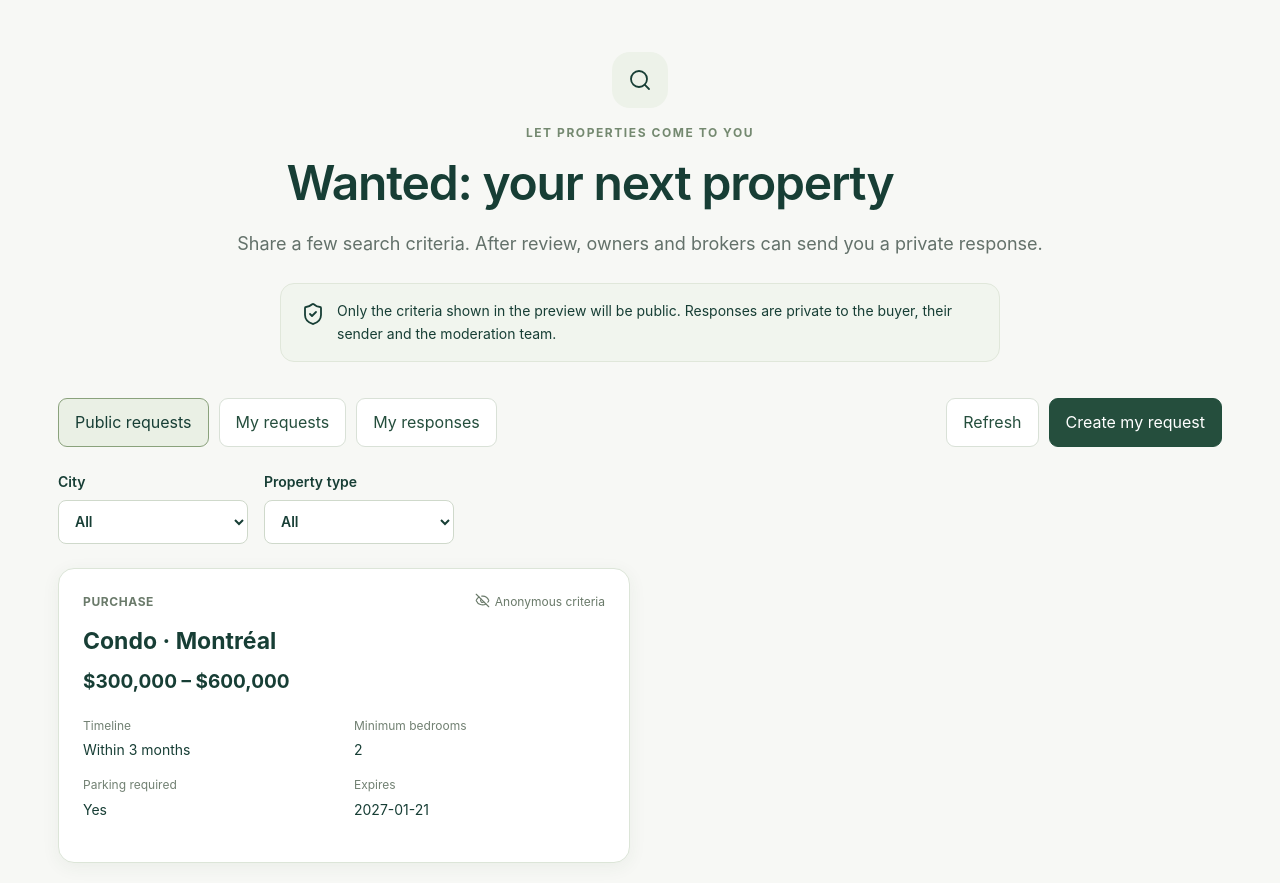
Scenario: requires confirmation to withdraw and keeps private responses behind the buyer view
The image size is (1280, 883).
Click the button "My requests": [282, 422] box [218,398,346,447]
(page scrolled)
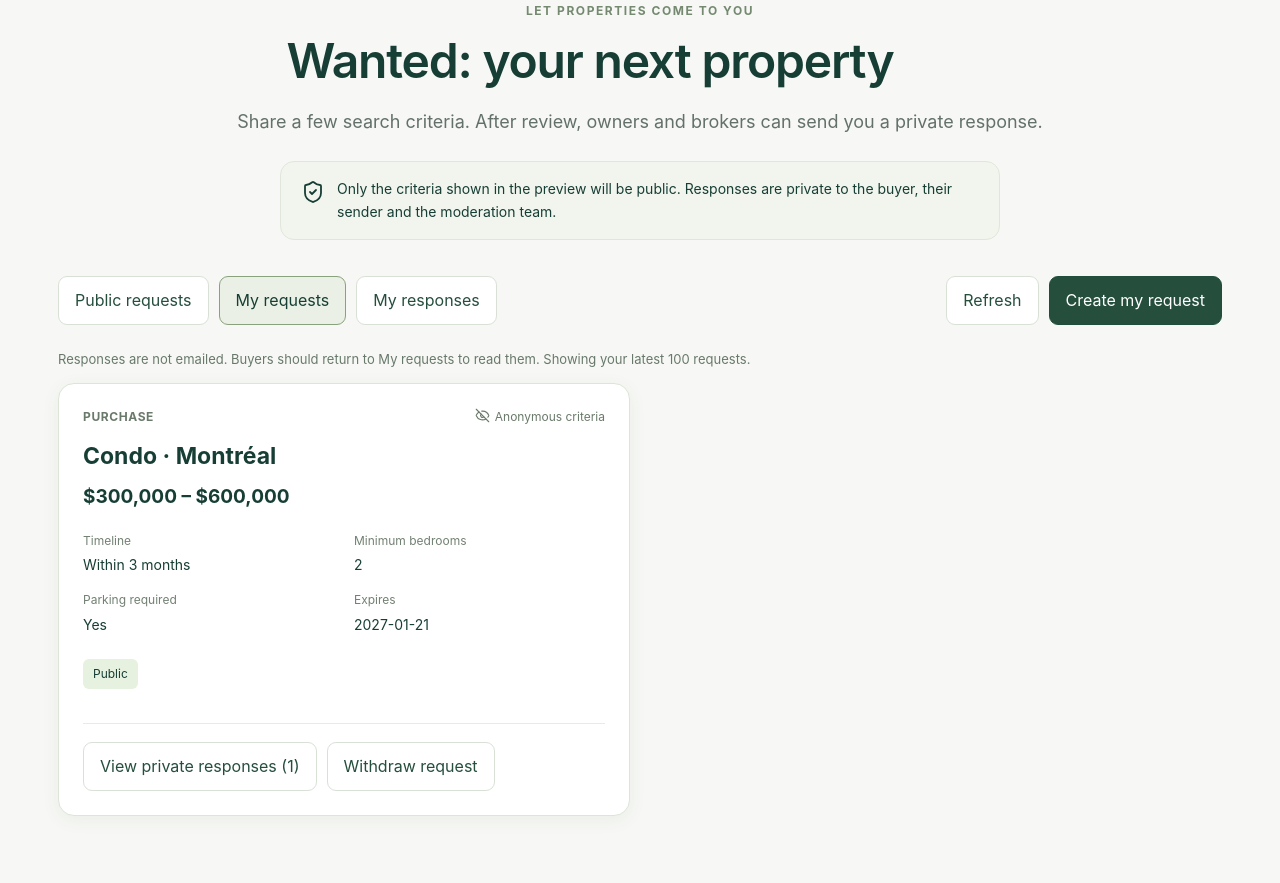
Expected: the text "Private seller message" is not shown
Click the button "View private responses (1)": [200, 767] box [83,742,316,791]
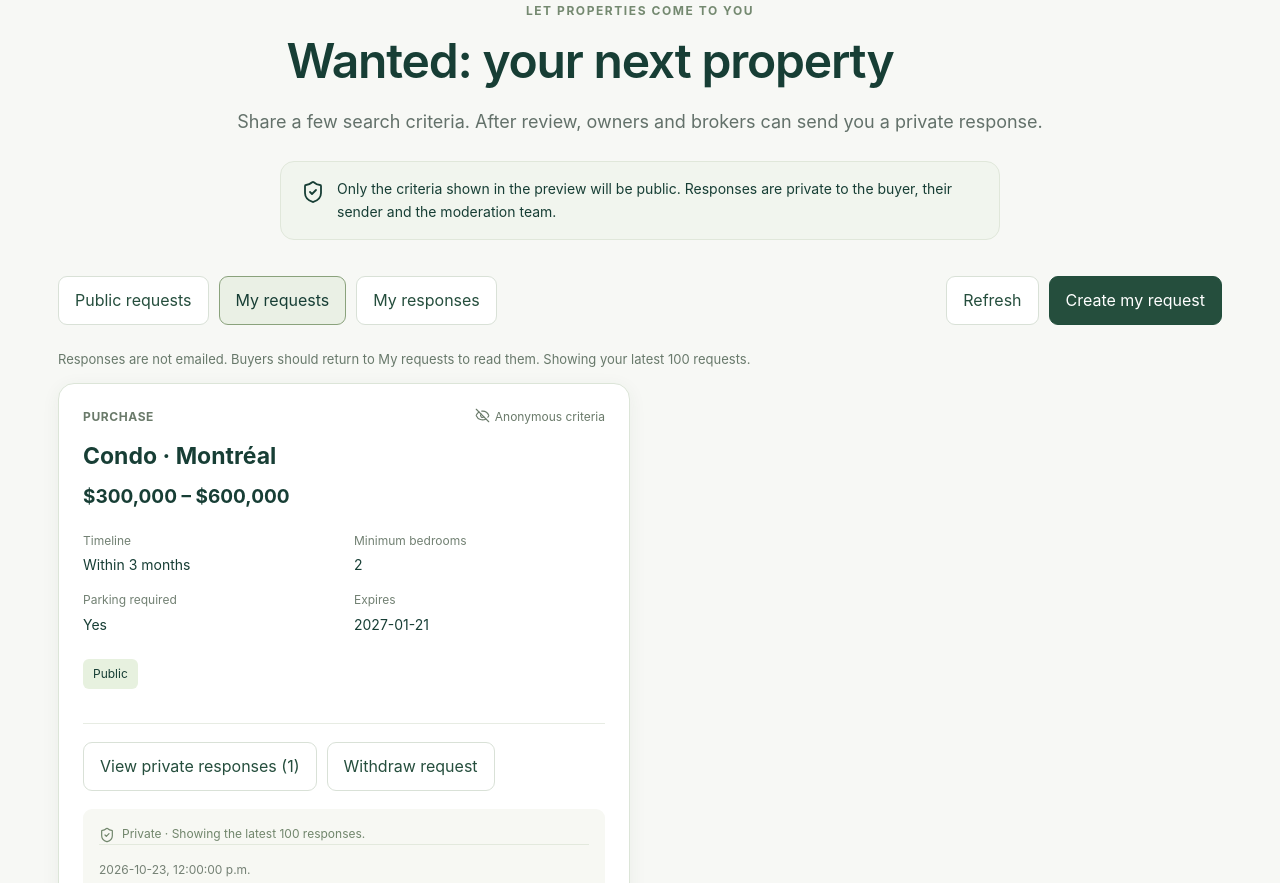
Click the button "Withdraw request": [411, 767] box [326,742,495,791]
(page scrolled)
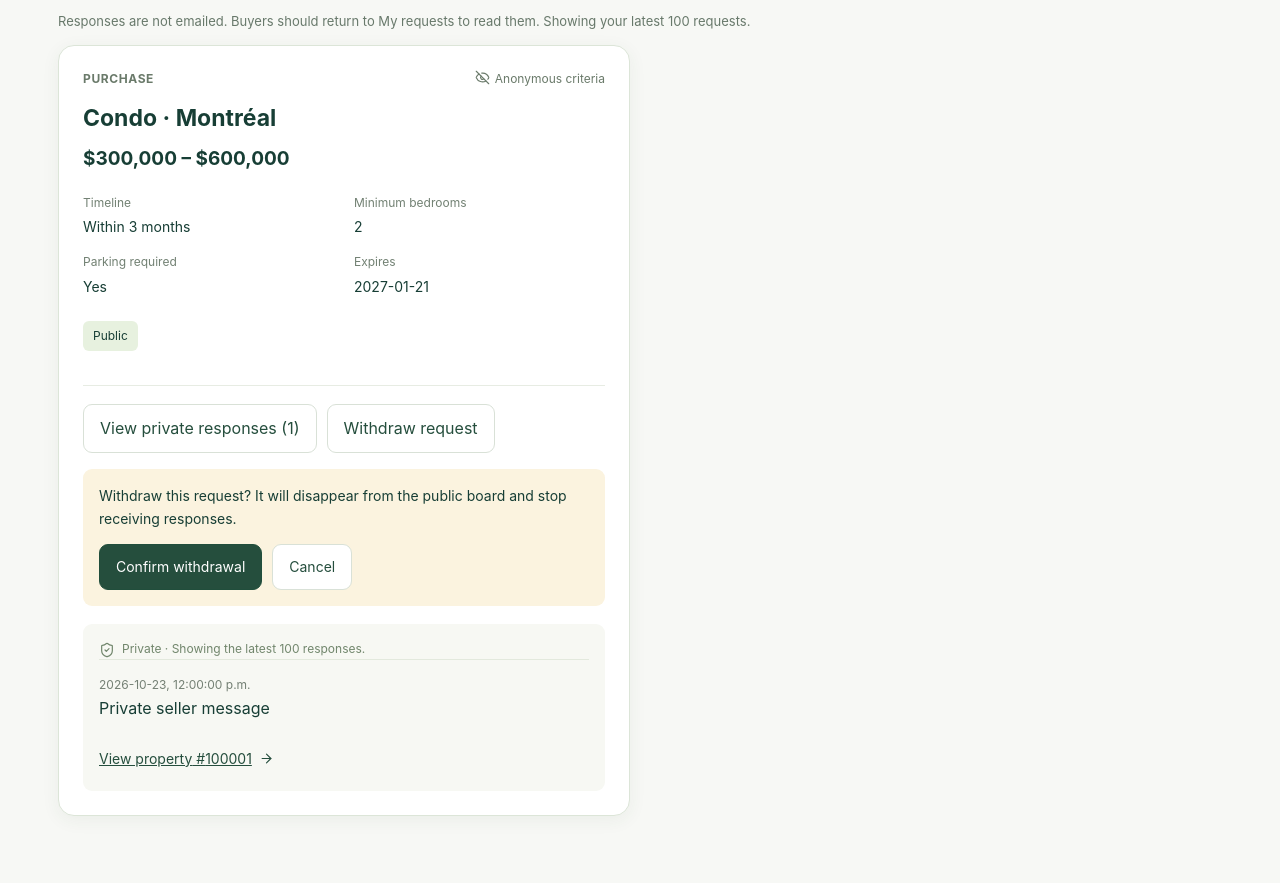
Expected: the button "Confirm withdrawal" is shown
Click the button "Confirm withdrawal": [181, 567] box [99,544,262,590]
(page scrolled)
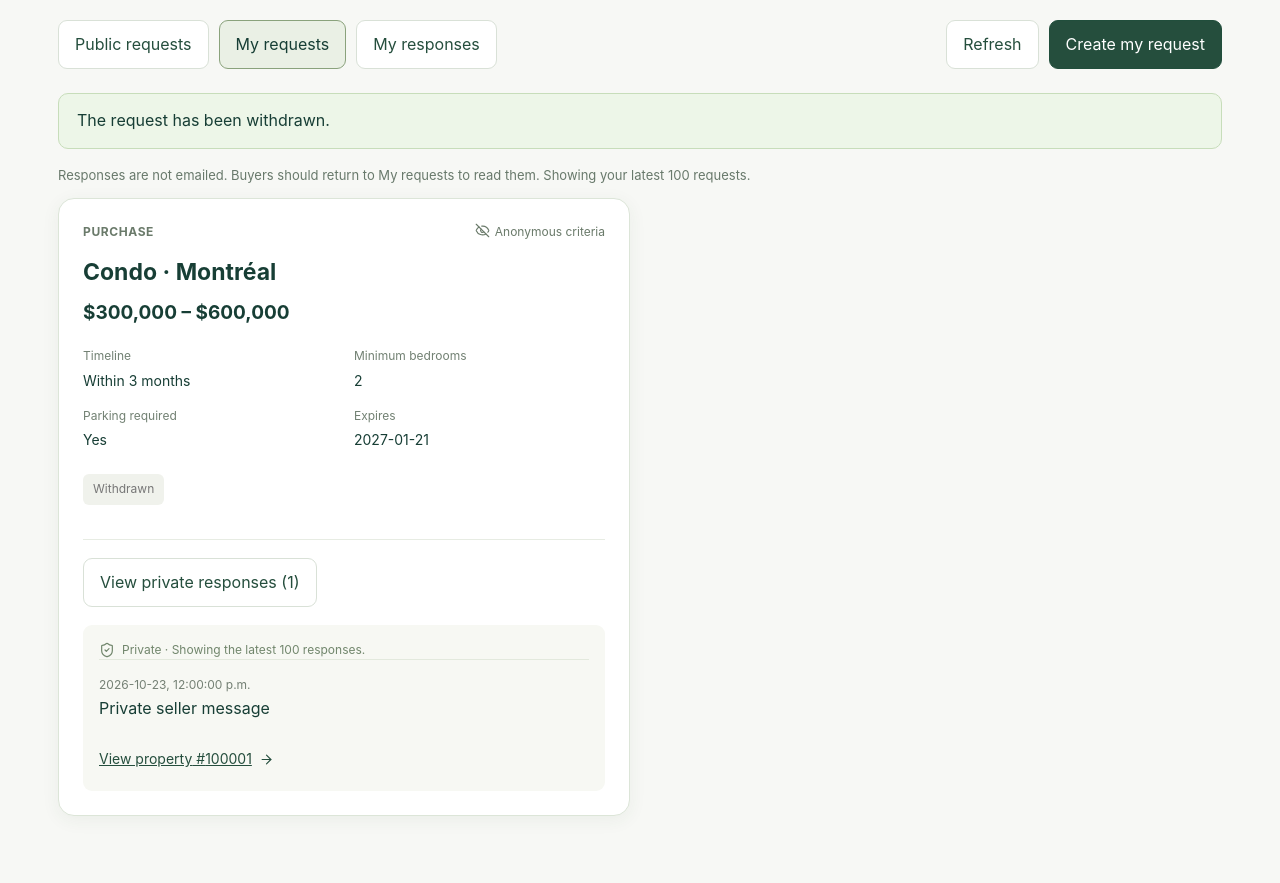
Expected: the text "withdrawn" is shown, [77,110,330,130]
